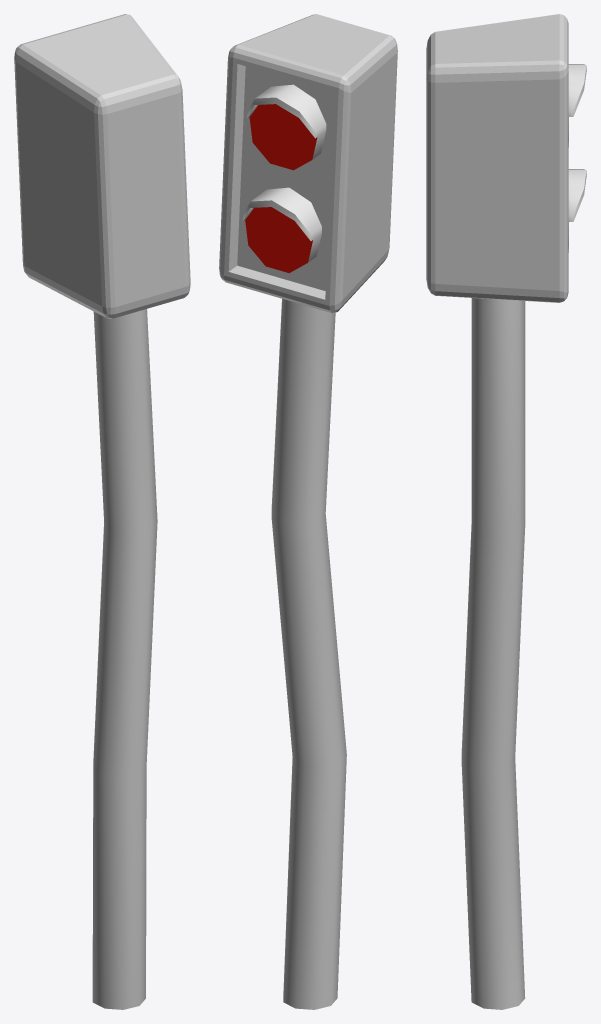
The model's file is RedLight.fbx.
The picture shows the model from 3 angles, left to right: view 1: azimuth 30°, elevation 25°; view 2: azimuth 150°, elevation 25°; view 3: azimuth 270°, elevation 25°; orthographic projection.
Visible parts, largest first — view 1: Cube, Cylinder; view 2: Cylinder, Cube, Cylinder.002, Cylinder.001; view 3: Cube, Cylinder, Cylinder.001, Cylinder.002.
Part boxes in pixels (x1,y1,x2,y2): Cube: (14, 14, 190, 318); Cylinder: (92, 309, 157, 1009); Cylinder: (271, 299, 346, 1009); Cube: (219, 14, 397, 312); Cylinder.002: (243, 187, 321, 273); Cylinder.001: (247, 84, 326, 170); Cube: (426, 14, 568, 302); Cylinder: (461, 298, 525, 1009); Cylinder.001: (568, 64, 586, 147); Cylinder.002: (568, 169, 586, 252).
Size of the model in its own units: 113 by 802 by 122.
